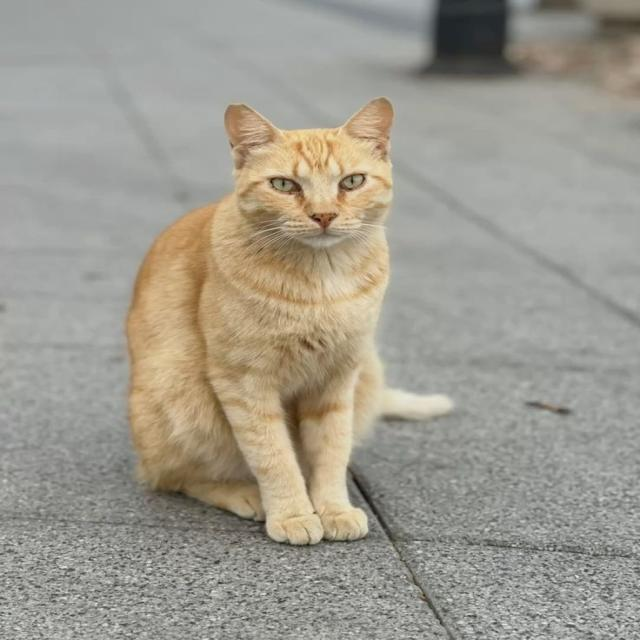sarman: (104, 33, 549, 613)
